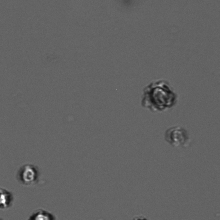Dead Cell: (140, 81, 177, 111), (165, 125, 191, 147)
Living Cell: (17, 163, 40, 184), (1, 187, 13, 208)
